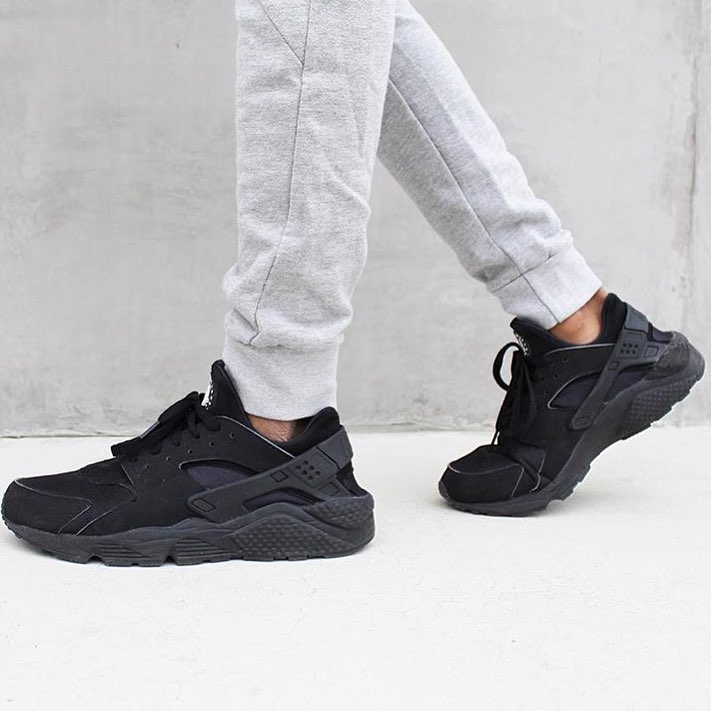sneaker: (1, 329, 403, 585), (422, 277, 711, 534)
